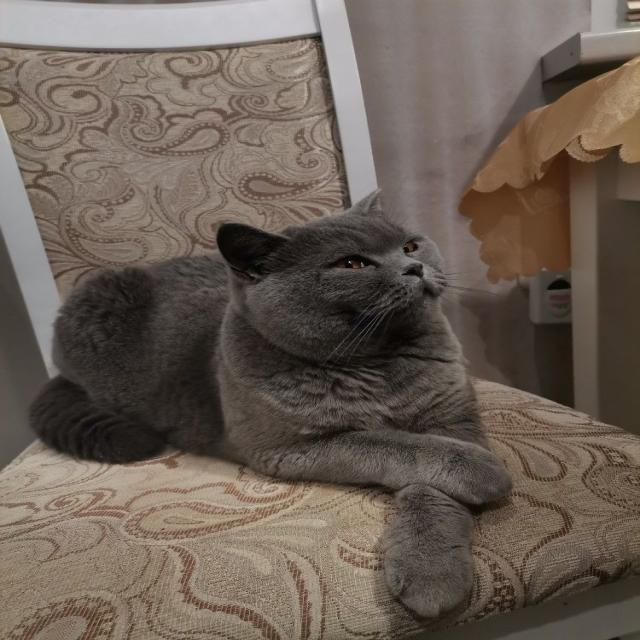british shorthair: (31, 191, 510, 616)
